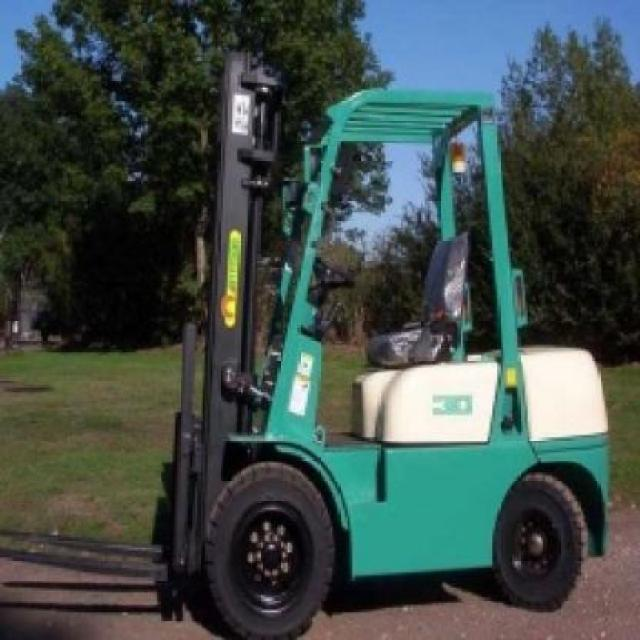forklift: (160, 53, 610, 640)
